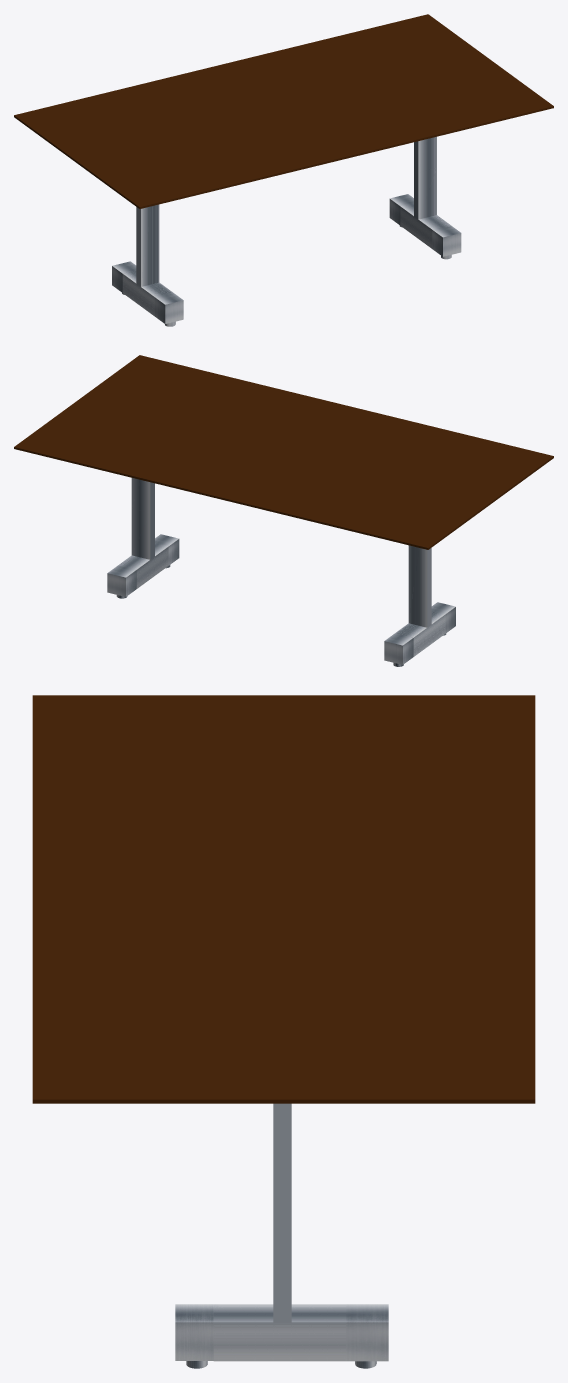
Rendered from gaming desk.fbx.
3 views of the same model, one above another, from view 1: azimuth 30°, elevation 25°; view 2: azimuth 150°, elevation 25°; view 3: azimuth 270°, elevation 25° (orthographic). The views are drawn at different scales.
Parts seen in each view (by area): view 1: Plane, right leg', Cube.001, left leg, Cube.002; view 2: Plane, Cube.001, right leg', Cube.002, left leg; view 3: Plane, Cube.001, left leg.
Boxes of the visible parts, box(x1,y1,x2,y2) form: Plane: box(14, 14, 553, 208); right leg': box(122, 204, 183, 323); Cube.001: box(389, 136, 451, 248); left leg: box(432, 226, 461, 256); Cube.002: box(112, 261, 136, 292); Plane: box(14, 355, 553, 549); Cube.001: box(107, 478, 168, 596); right leg': box(395, 545, 455, 656); Cube.002: box(384, 633, 413, 664); left leg: box(155, 534, 179, 565); Plane: box(32, 695, 535, 1103); Cube.001: box(213, 1103, 388, 1361); left leg: box(175, 1304, 218, 1360).
Size of the model in its own units: 715 by 272 by 376.
